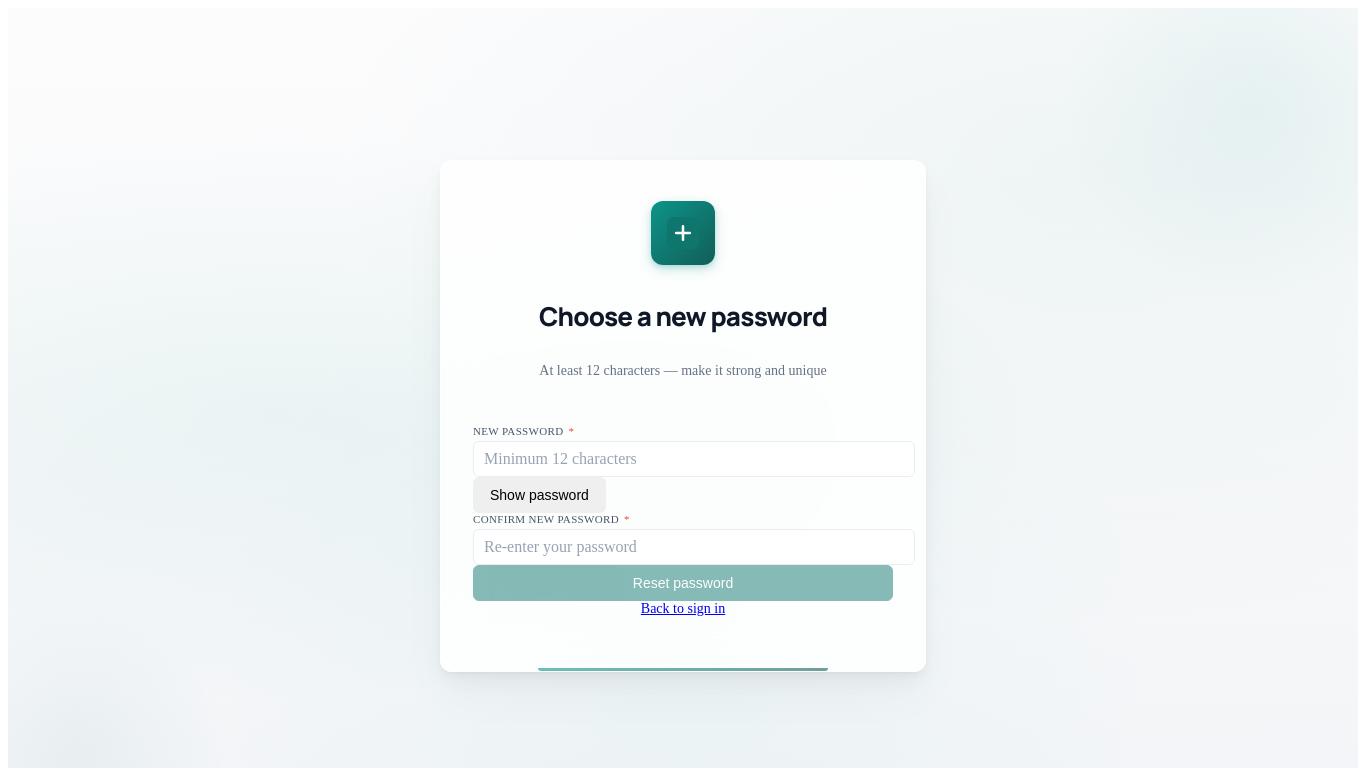
Scenario: ResetPasswordPage › shows a friendly message for an invalid or expired link
Type "a-brand-new-password-123" into the password field labelled "New password *" at (694, 459), box x1=473 y1=441 x2=915 y2=477
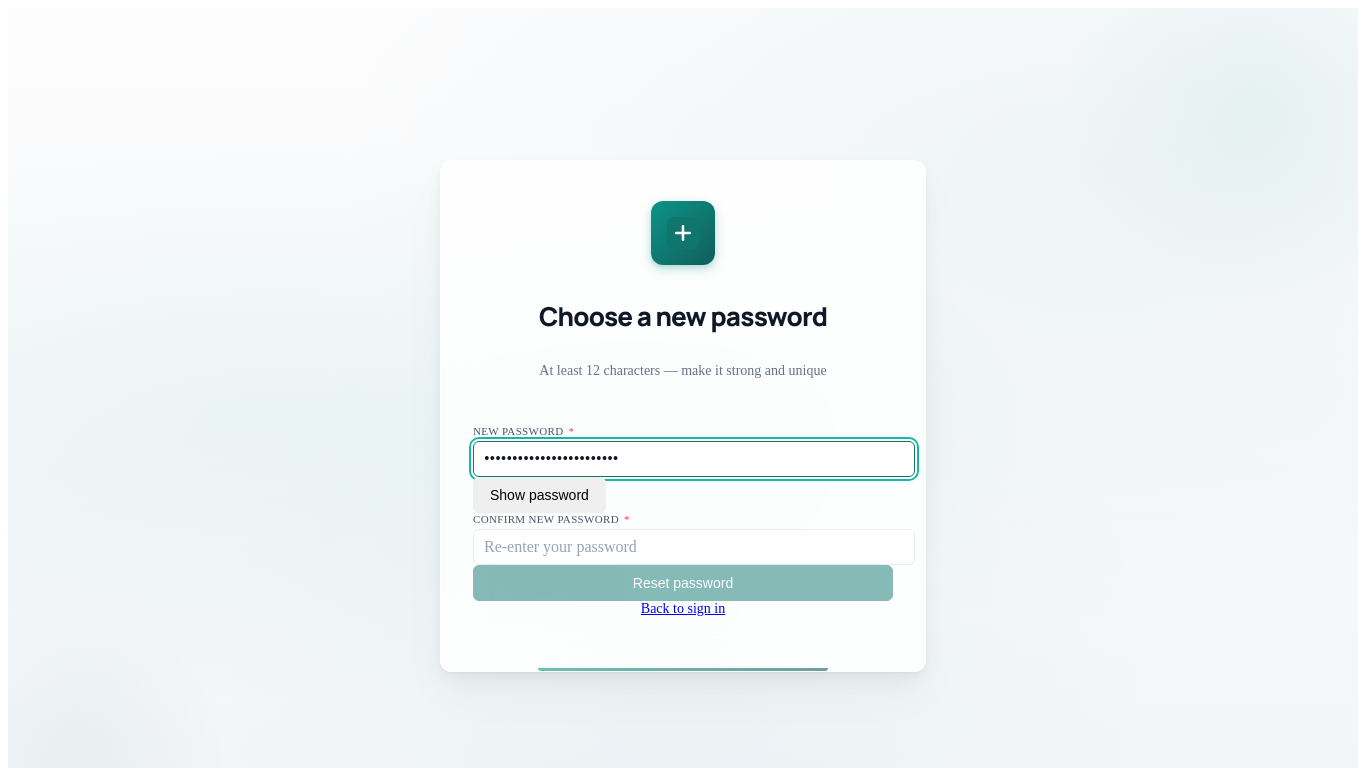
Type "a-brand-new-password-123" into the password field labelled "Confirm new password *" at (694, 547), box x1=473 y1=529 x2=915 y2=565
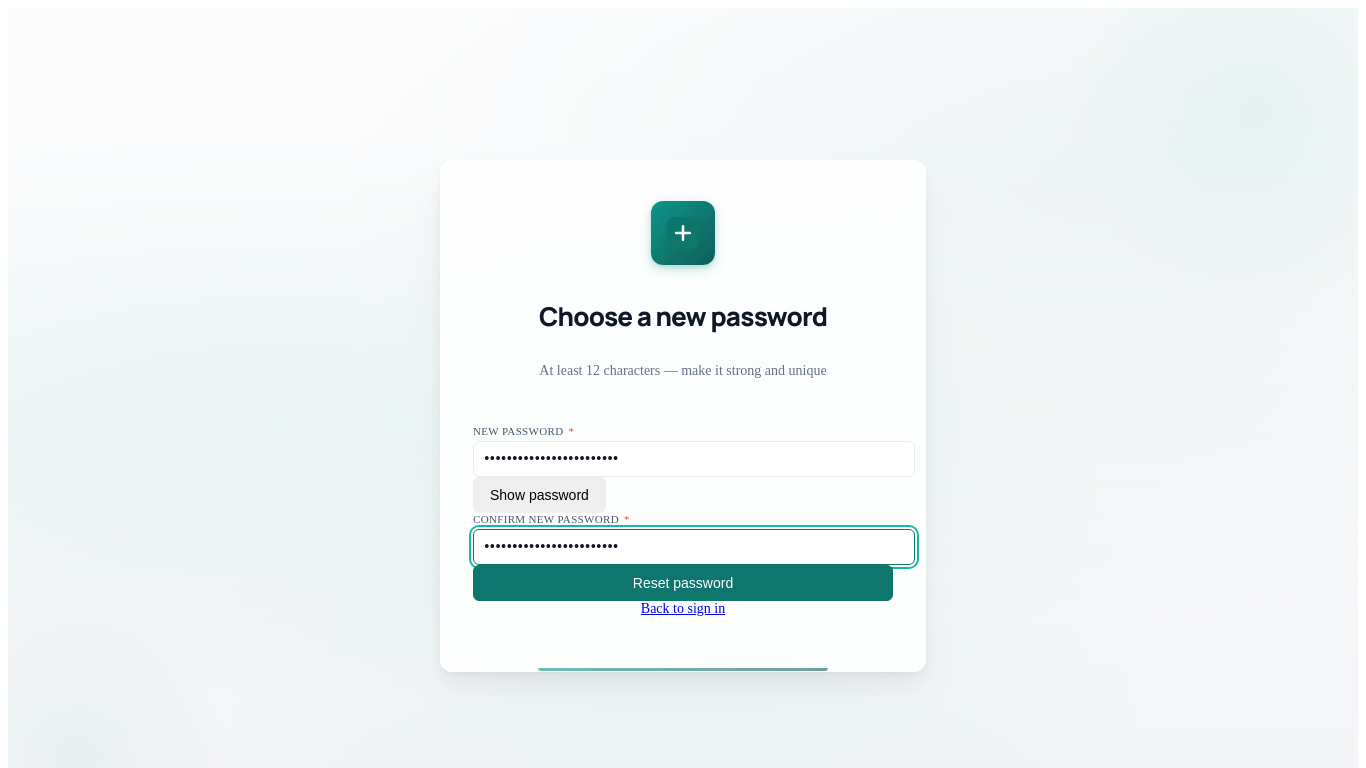
Click the button "Reset password" at (683, 583), box x1=473 y1=565 x2=893 y2=601
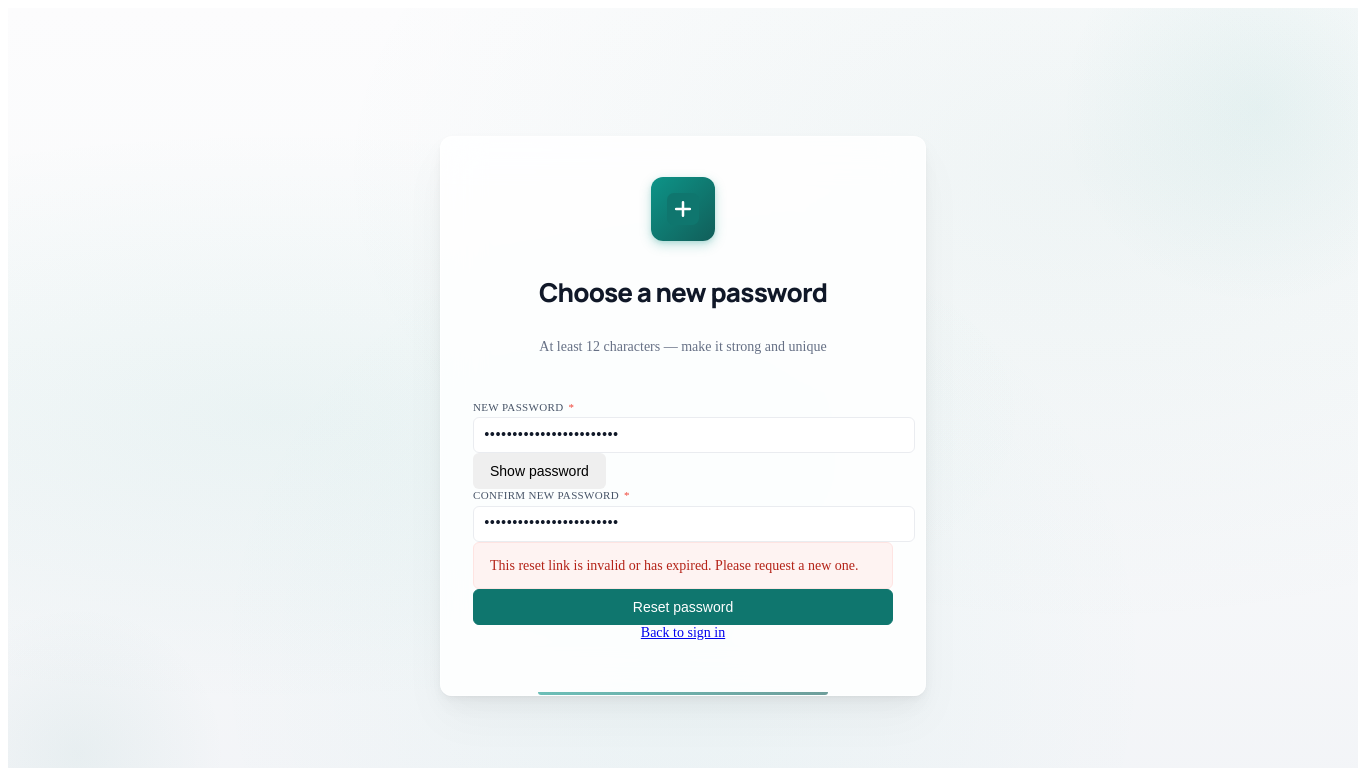
Expected: the message shows "invalid or has expired", x1=490 y1=558 x2=859 y2=573
